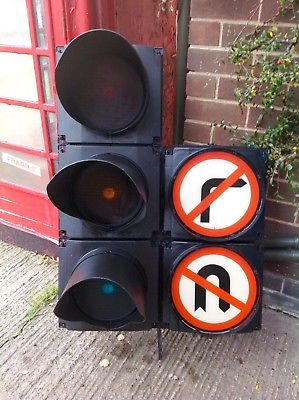No_right_turn: (172, 151, 262, 236)
No_u_turn: (170, 246, 260, 332)
